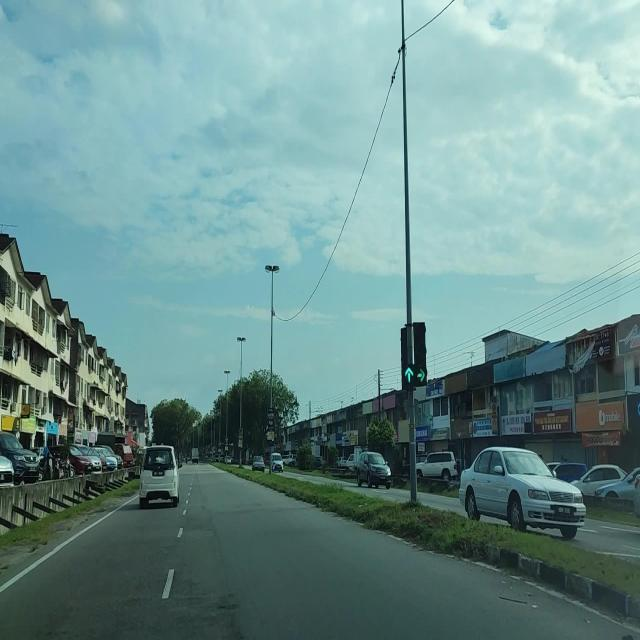green_light: (413, 320, 427, 388), (402, 326, 413, 386)
